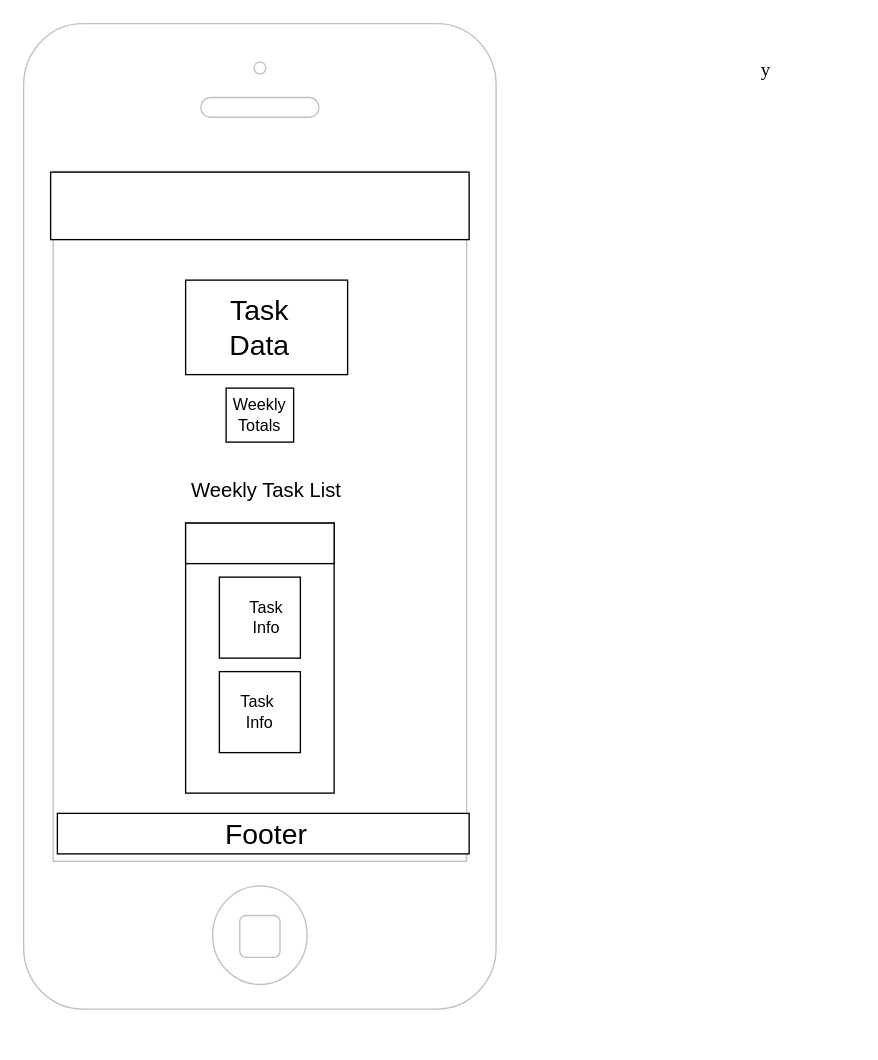
This 878x1060 diagram has some shape labels left out. Here are the shapes that lost their labels. From the top down, the centre of each, then its label:
point 259,205: Header
point 259,543: Day
